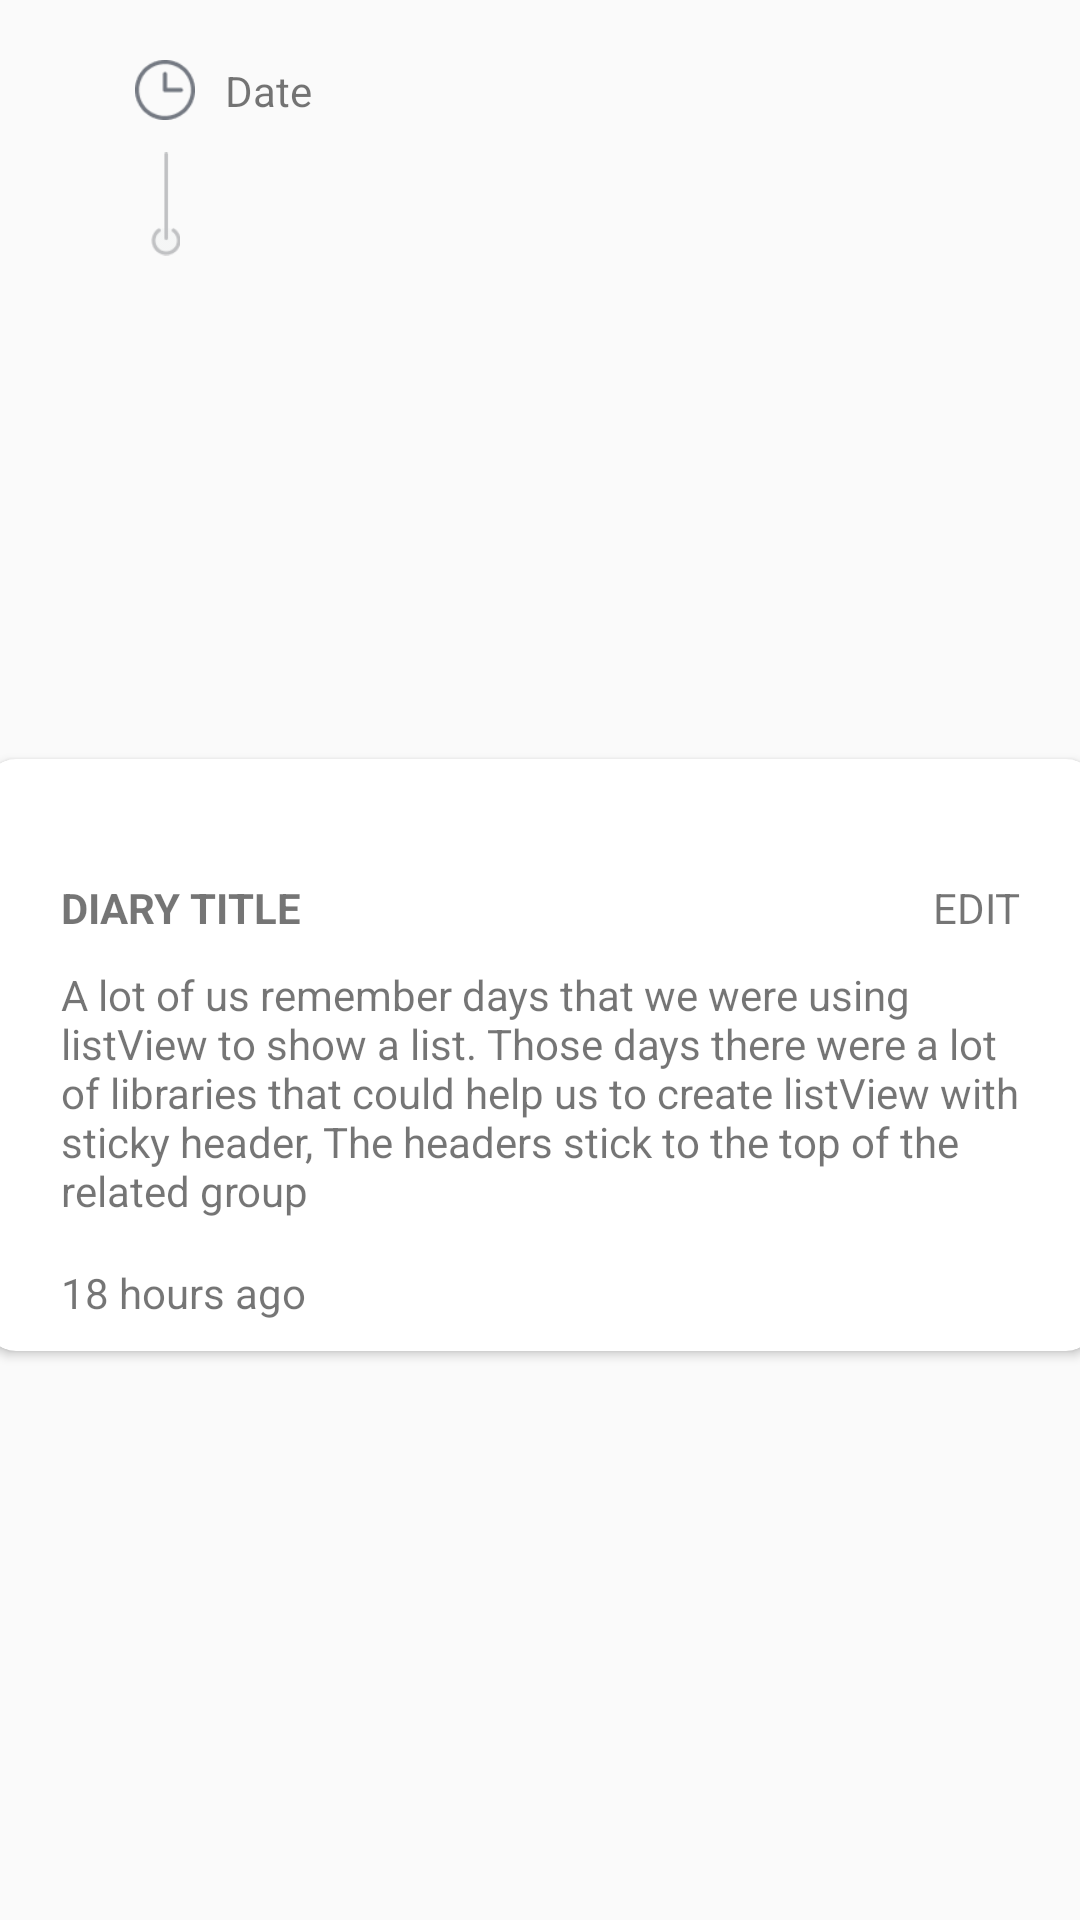

Icons on this 1080*1920 Android screen, each with its box as (x1, y1, x2, y2):
clock: (135, 60, 195, 120)
